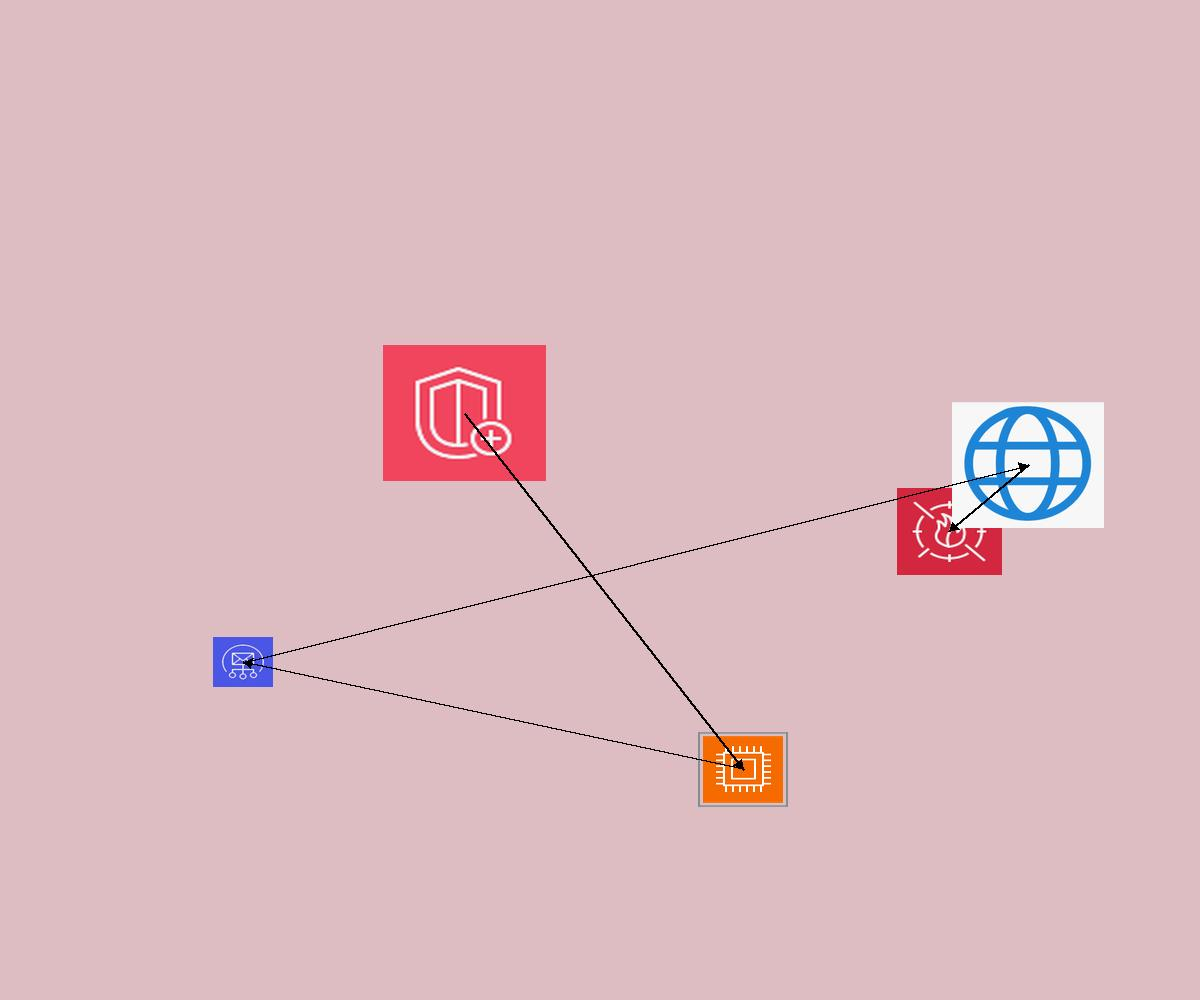AWS-Category_Compute: (698, 732, 788, 807)
AWS-Shield: (383, 345, 546, 481)
AWS-Simple-Email-Service: (213, 637, 273, 687)
AWS-WAF: (897, 488, 1002, 575)
Azure_http: (952, 402, 1104, 528)
